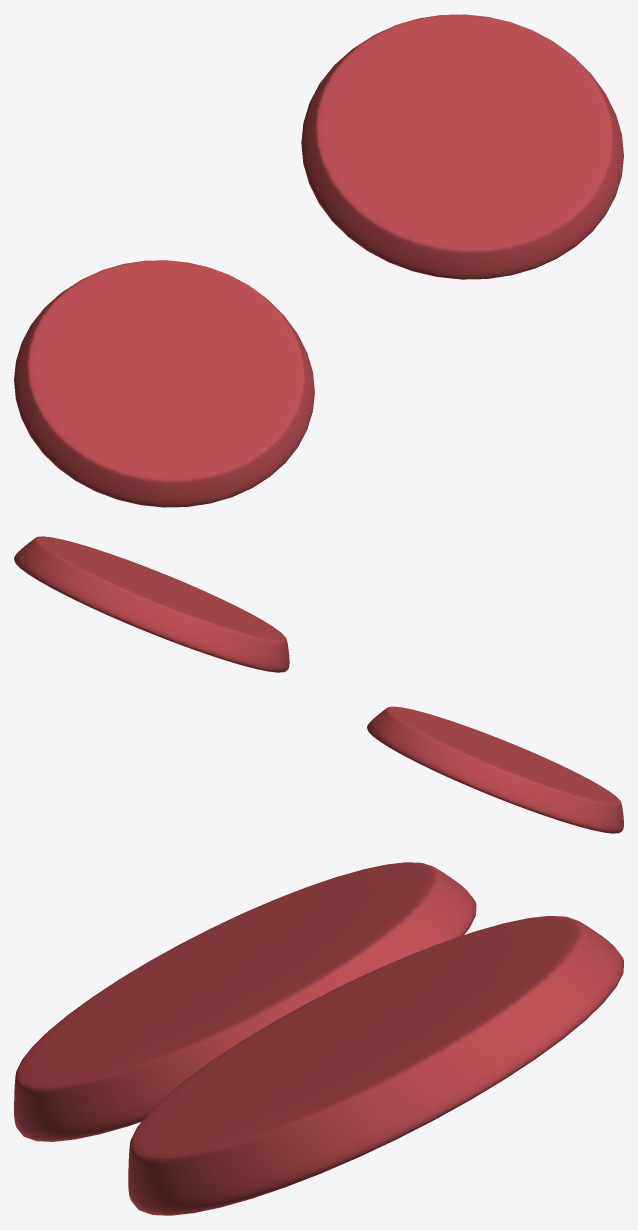
Rendered from bongo platos  .fbx.
The picture shows the model from 3 angles, top to bottom: view 1: azimuth 30°, elevation 25°; view 2: azimuth 150°, elevation 25°; view 3: azimuth 270°, elevation 25°; orthographic projection. The views are drawn at different scales.
Parts seen in each view (by area): view 1: Bongos .041, Bongos .019; view 2: Bongos .041, Bongos .019; view 3: Bongos .041, Bongos .019.
Part boxes in pixels (x1,y1,x2,y2): Bongos .041: [301, 14, 623, 279]; Bongos .019: [14, 260, 314, 507]; Bongos .041: [14, 536, 289, 672]; Bongos .019: [367, 706, 623, 833]; Bongos .041: [128, 916, 623, 1215]; Bongos .019: [14, 862, 476, 1141].
Bounding box in the file's own units: 217 × 95.81 × 112.
